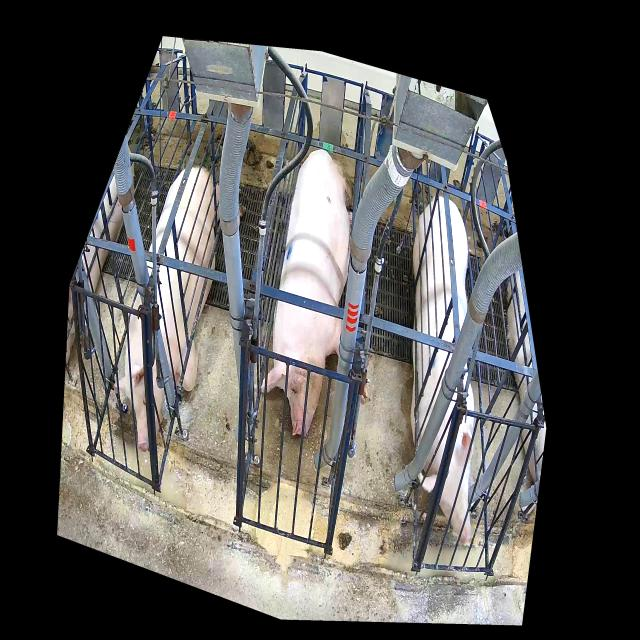pig: (119, 167, 219, 452), (262, 150, 354, 437), (410, 197, 474, 544)
